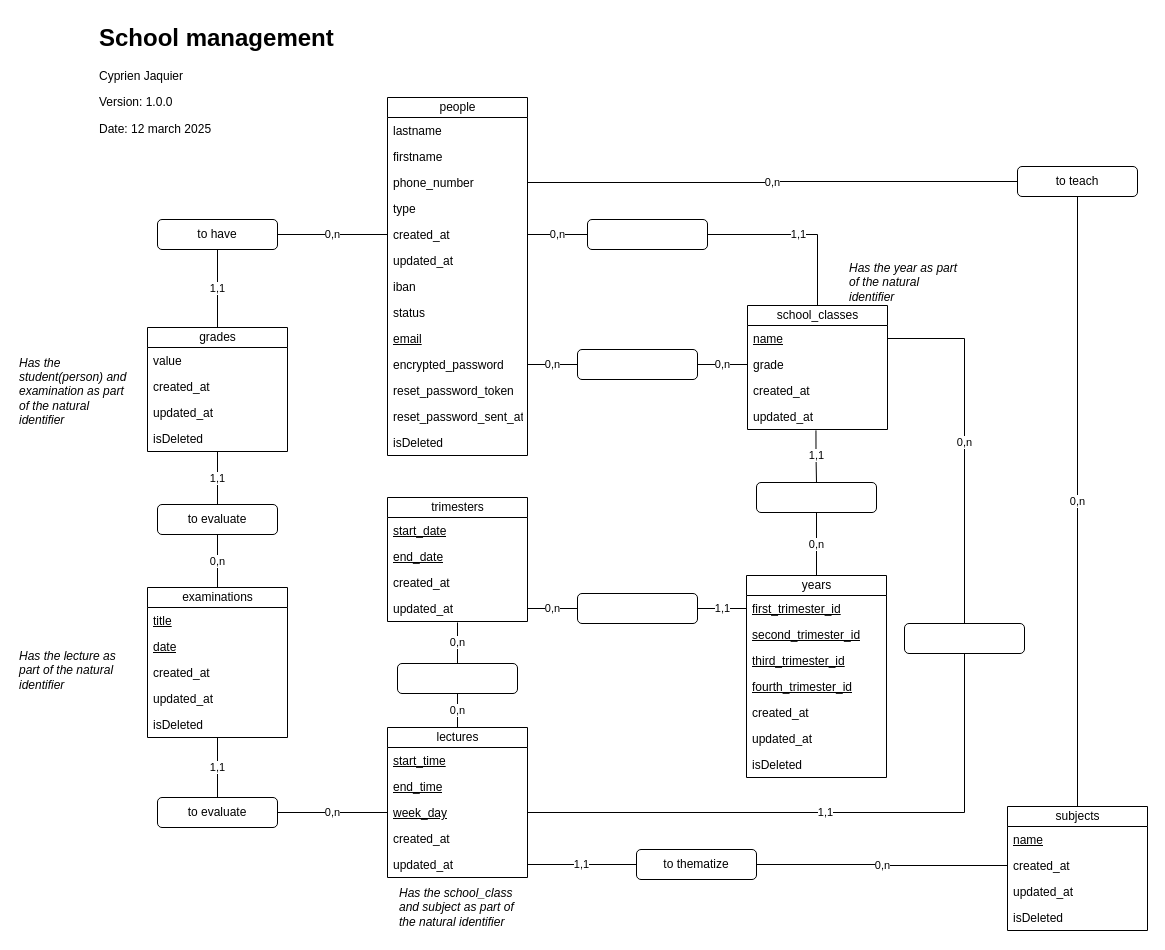
Image size: 1165x950. Some labels were removed from this diagram. Here are the shapes that lost their labels. From the top down, the centre of each, then its label:
At pixel 647 234: "to masterize".
At pixel 637 364: "to be a part".
At pixel 816 497: "to belongs".
At pixel 637 608: "to compose".
At pixel 964 638: "to follow".
At pixel 457 678: "to schedule".
